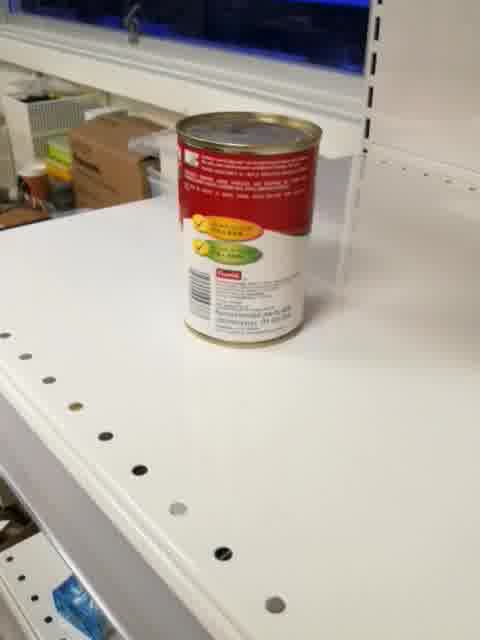tomatosoup: (173, 108, 324, 352)
